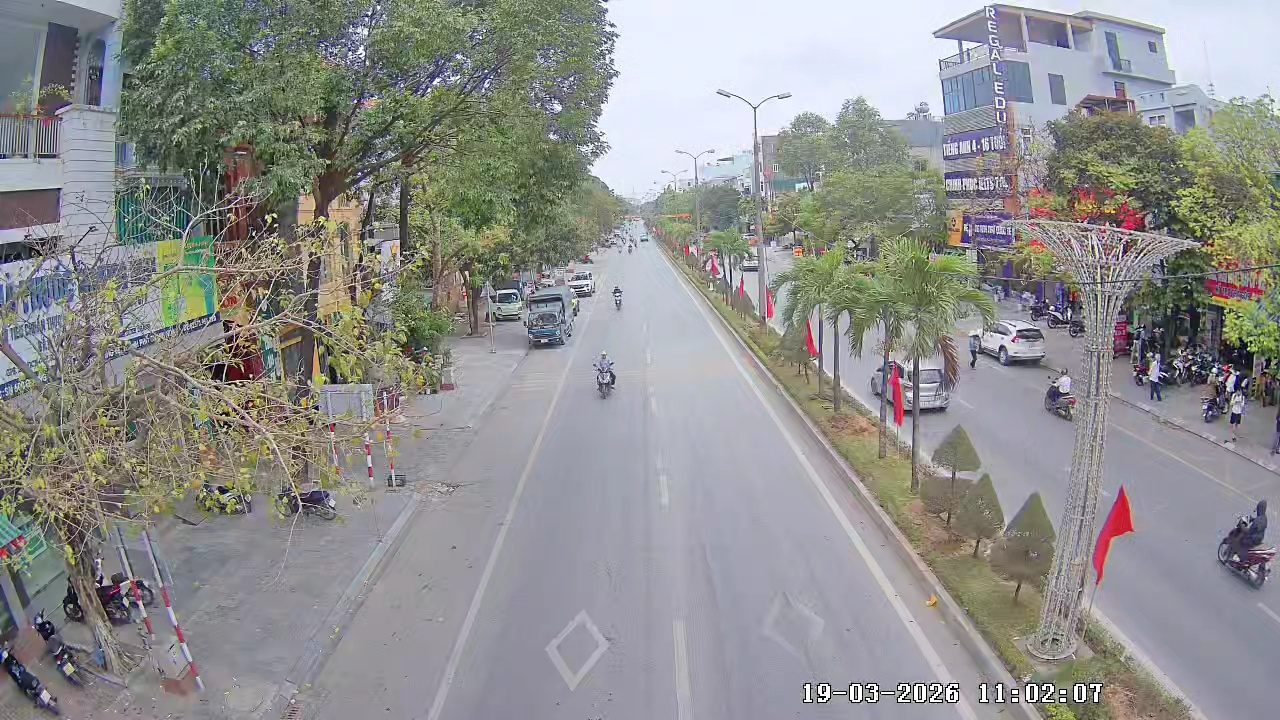car: (982, 322, 1047, 367), (567, 264, 596, 298)
motorbike: (1216, 497, 1279, 591), (271, 484, 342, 522), (1043, 367, 1075, 419), (592, 349, 618, 401), (611, 283, 626, 311)
truck: (524, 289, 573, 348)
